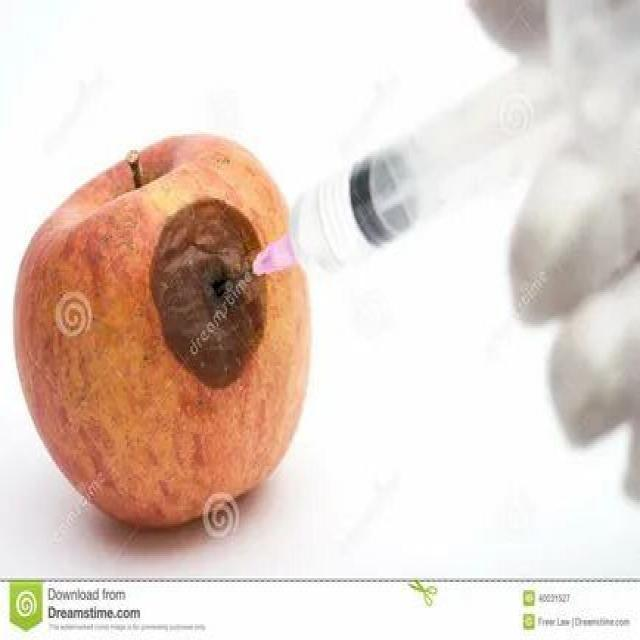Rotten: (22, 140, 308, 530)
